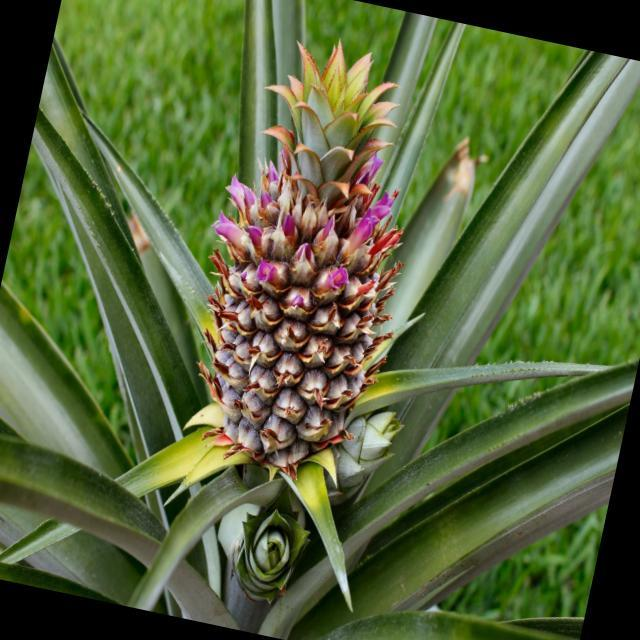PINEAPLE: (189, 40, 440, 484)
